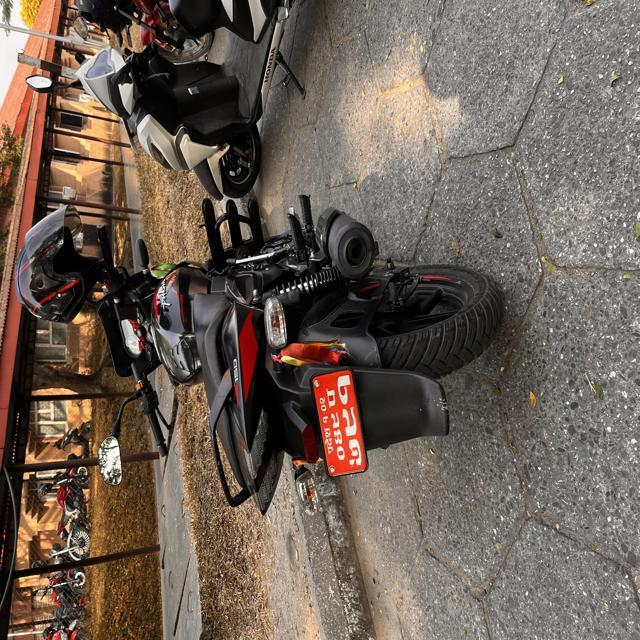license_plate: (296, 349, 380, 487)
